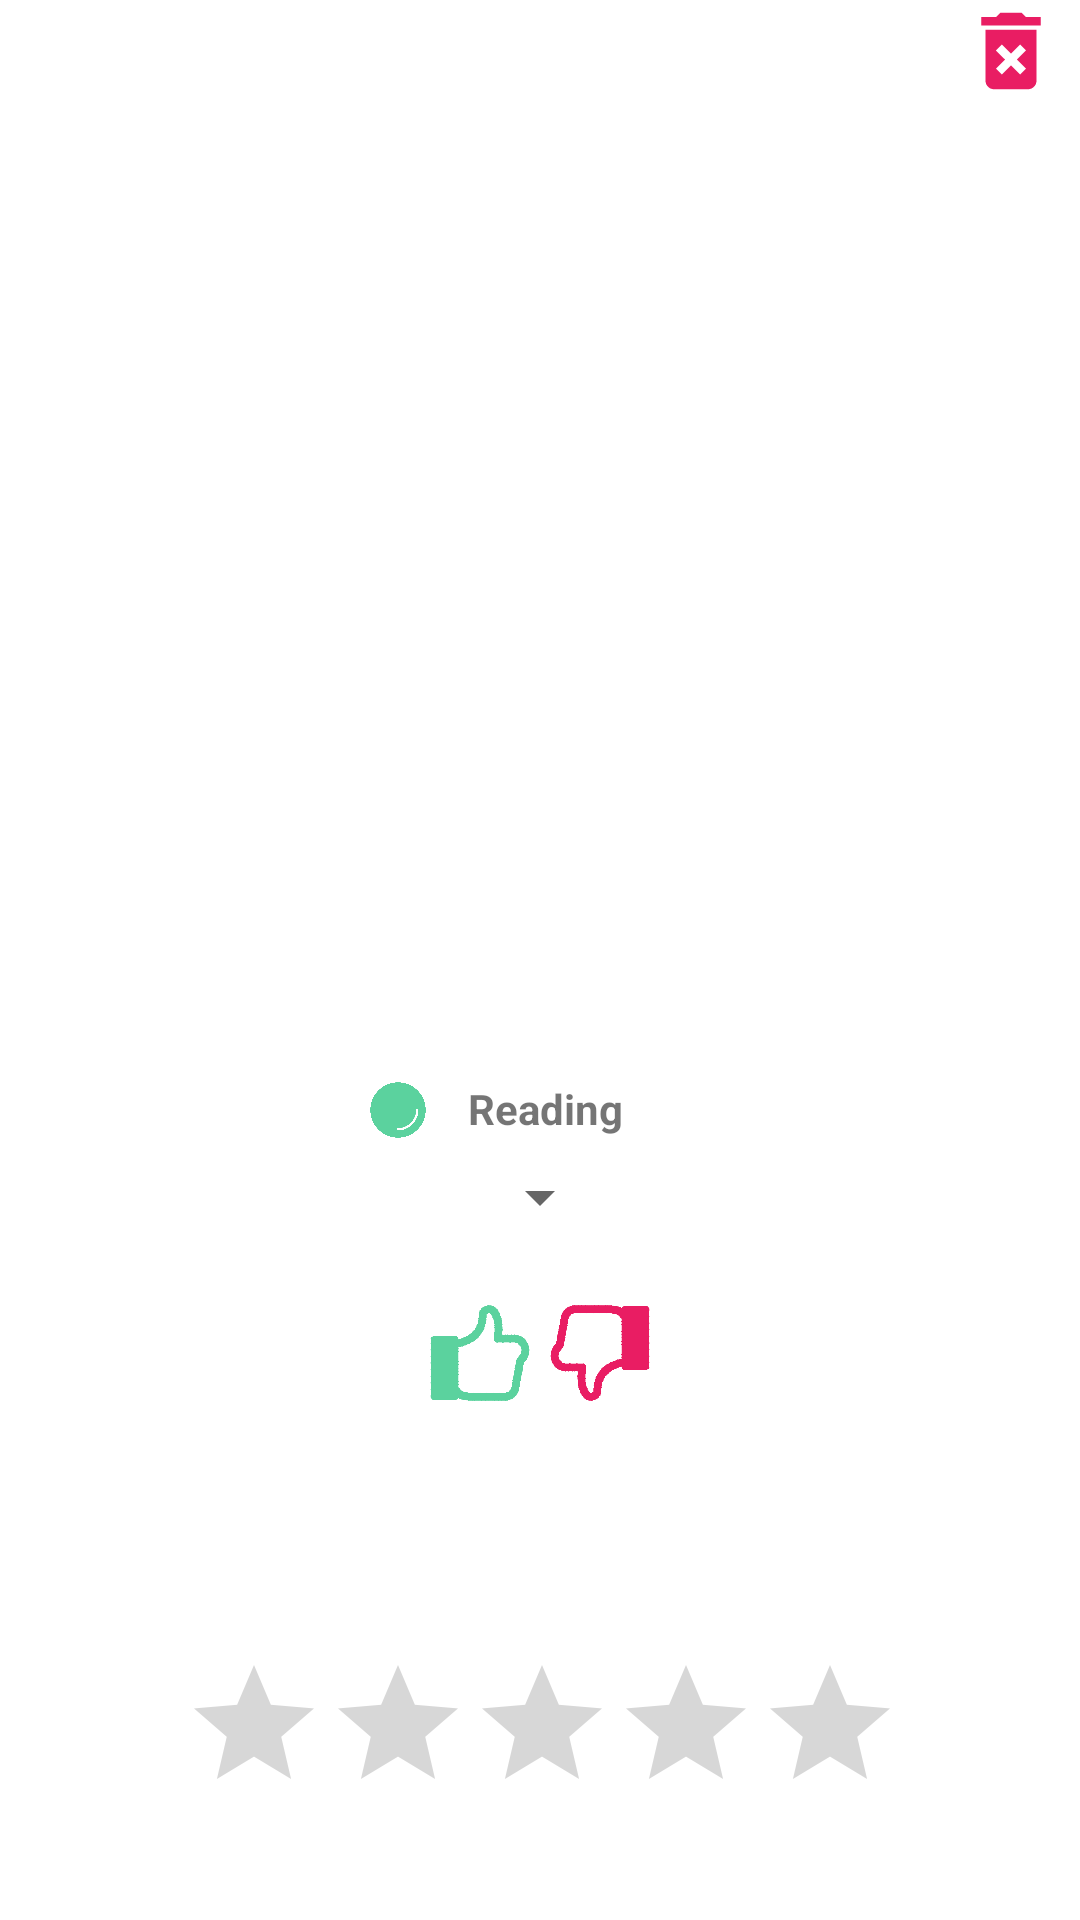

Icons on this 1080px x 1920px Android screen, each with the point to tap as [x,y]:
delete forever: [1011,51]
dislike: [600,1353]
like: [480,1353]
